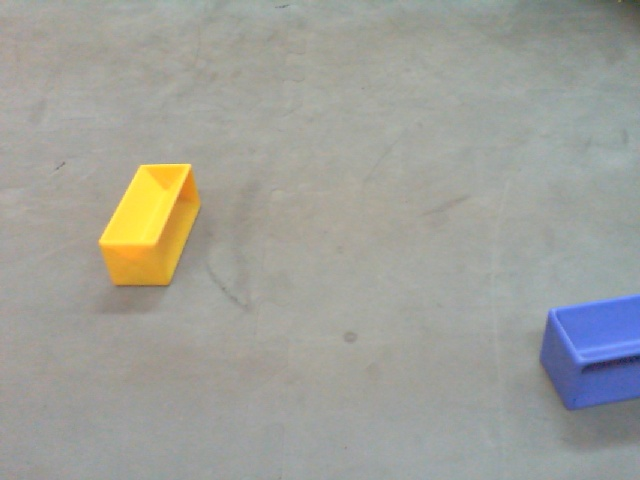BlueSample: (539, 292, 640, 409)
YellowSample: (94, 159, 202, 294)
